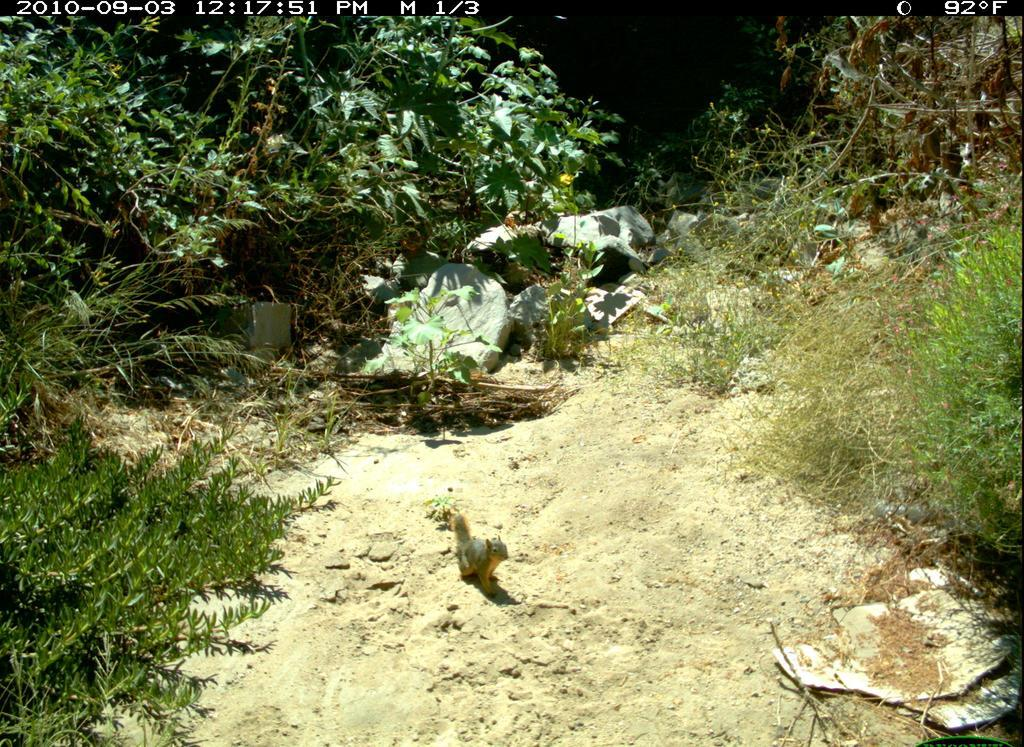squirrel: (442, 506, 515, 598)
